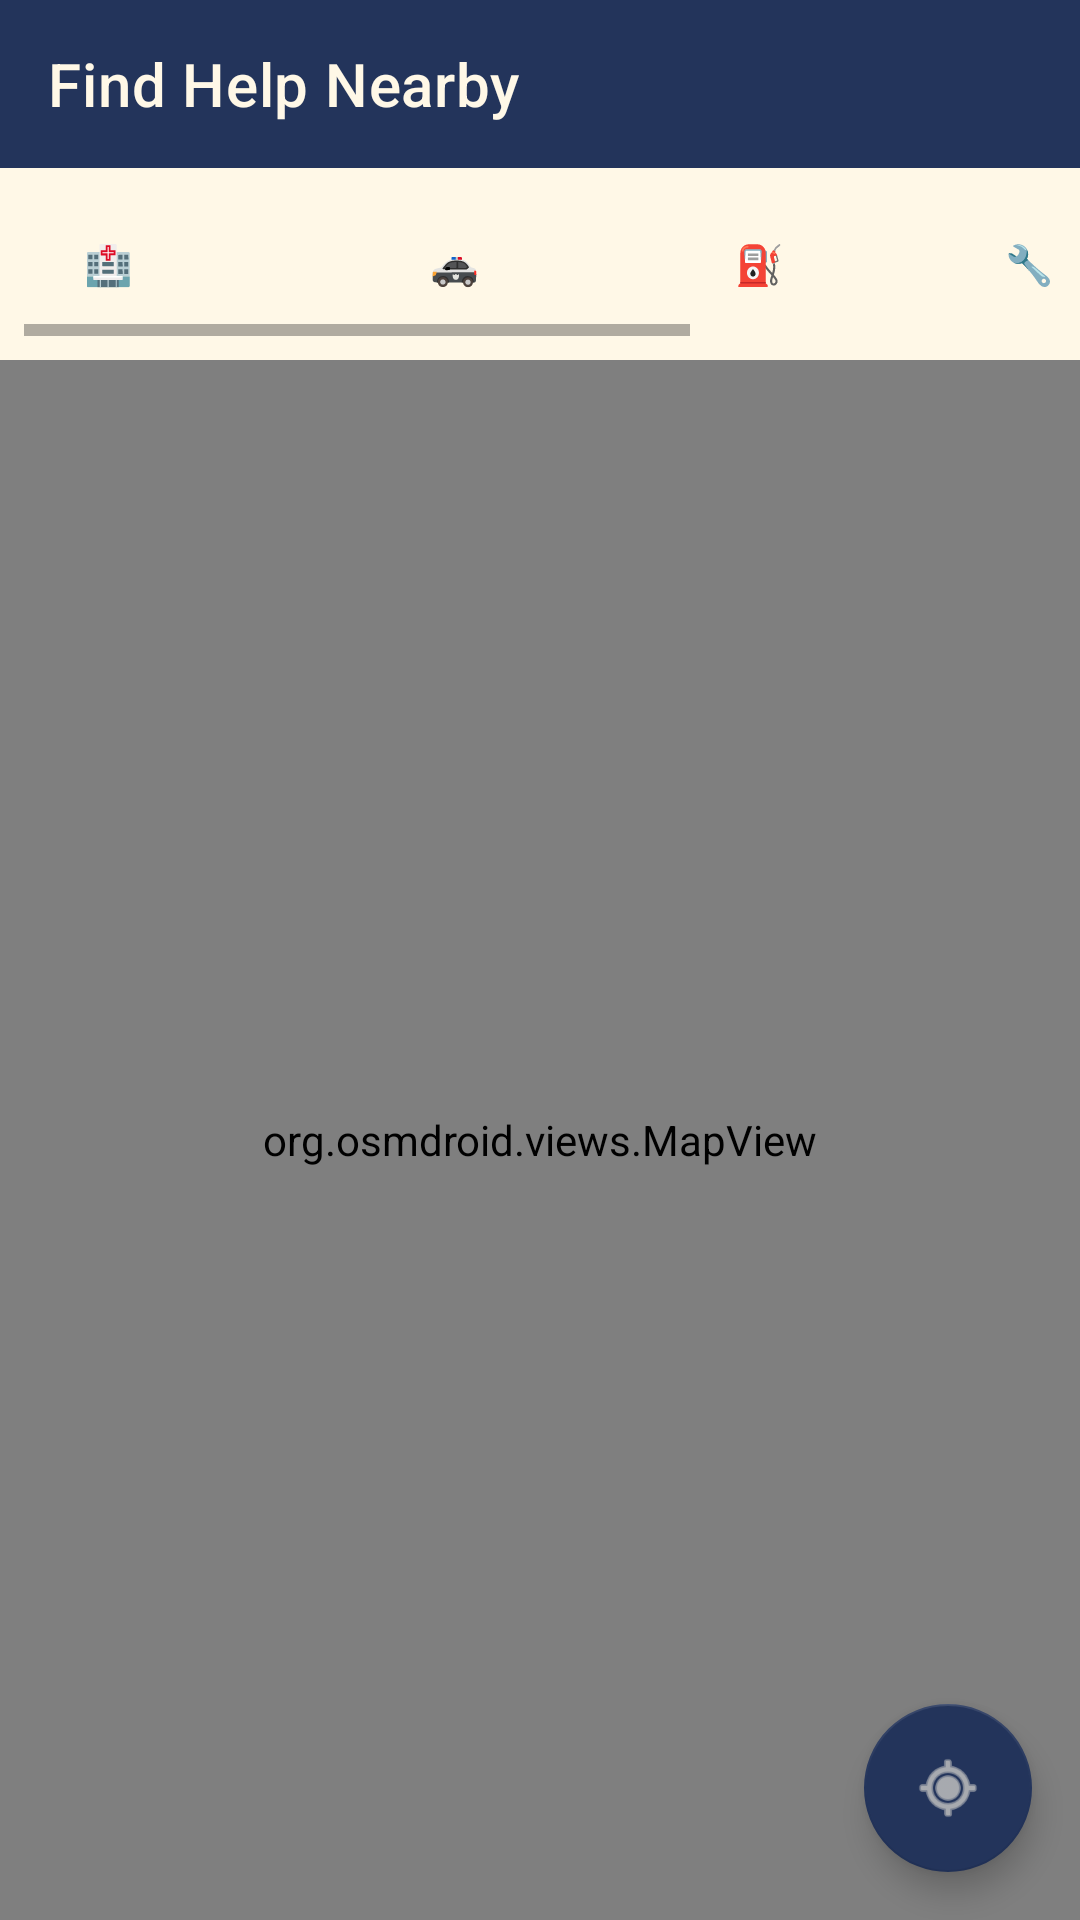

Screen size 1080×1920. Icon name, then its box in pixels as (x1, y1, x2, y2):
mylocation: (864, 1704, 1032, 1872)
